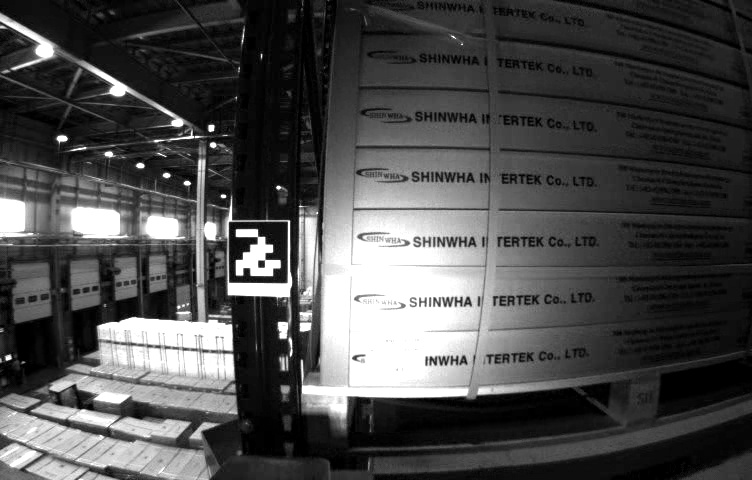True Barcode: (368, 331, 426, 383)
